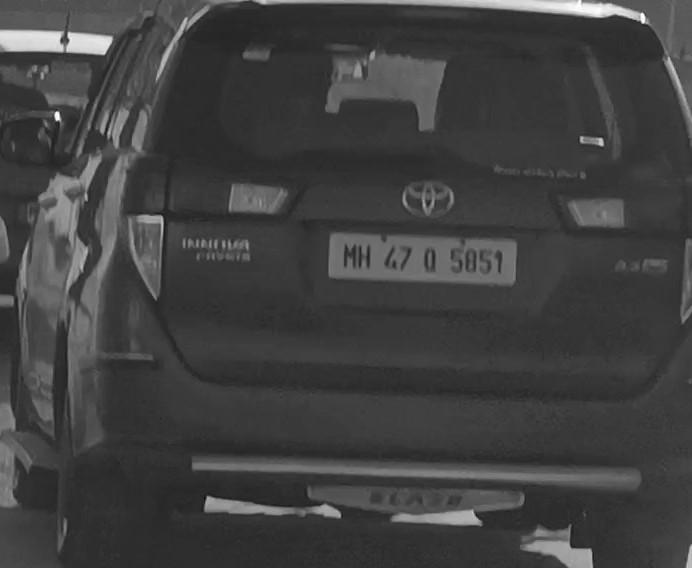number_plate: (329, 232, 522, 285)
